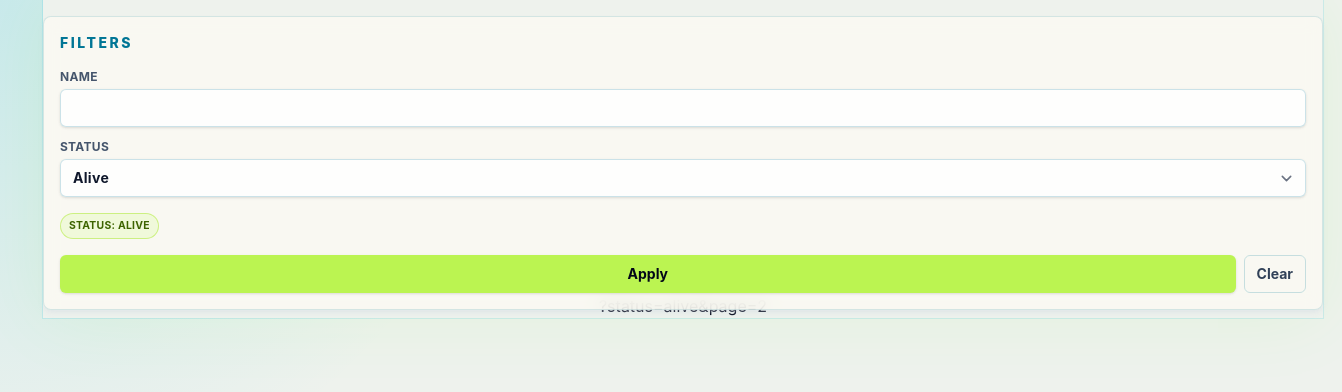
Test: FilterPanel › reflects active URL filters and clears them
The width and height of the screenshot is (1342, 392).
Click the button "Clear".
click(1275, 274)  # box top-left (1244, 255), bottom-right (1306, 293)
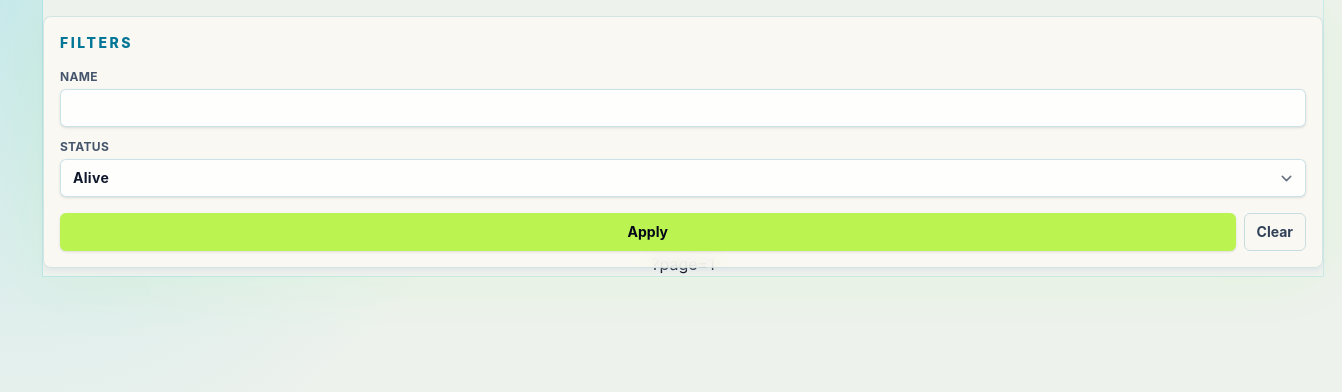
Check: the text with test id "location-search" reads "?page=1", box top-left (651, 254), bottom-right (715, 274)
